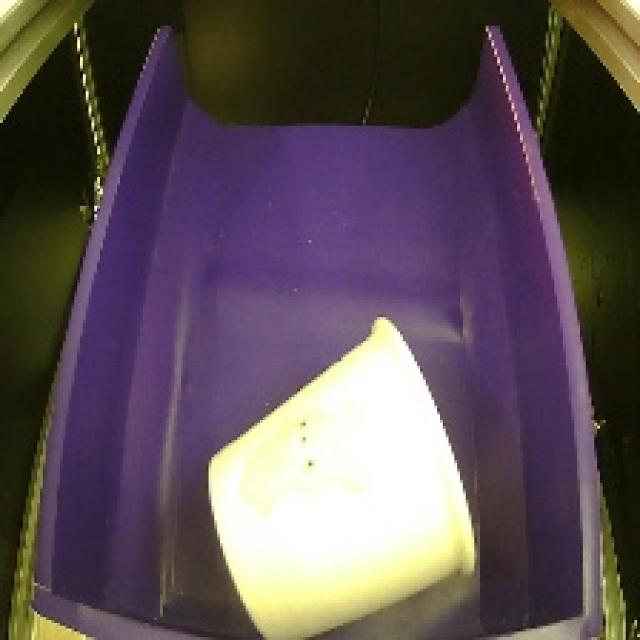cups: (198, 290, 488, 640)
